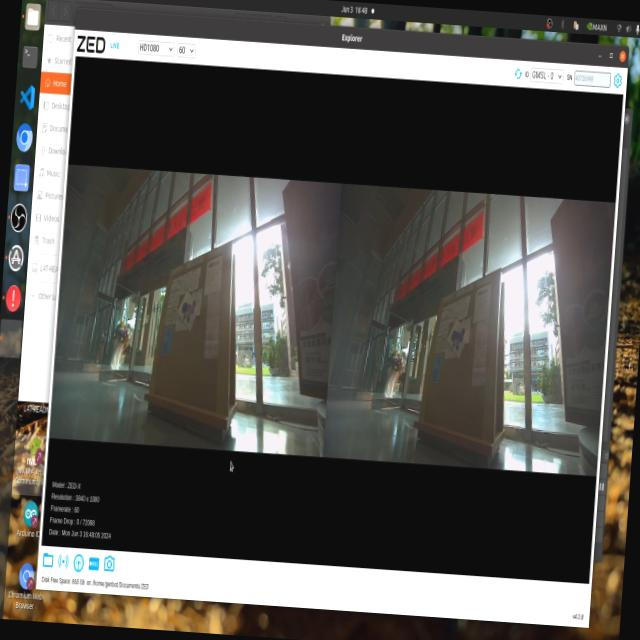blue: (179, 292, 204, 334), (446, 317, 466, 359)
